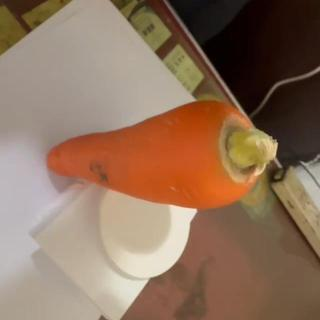carrot: (45, 99, 279, 209)
